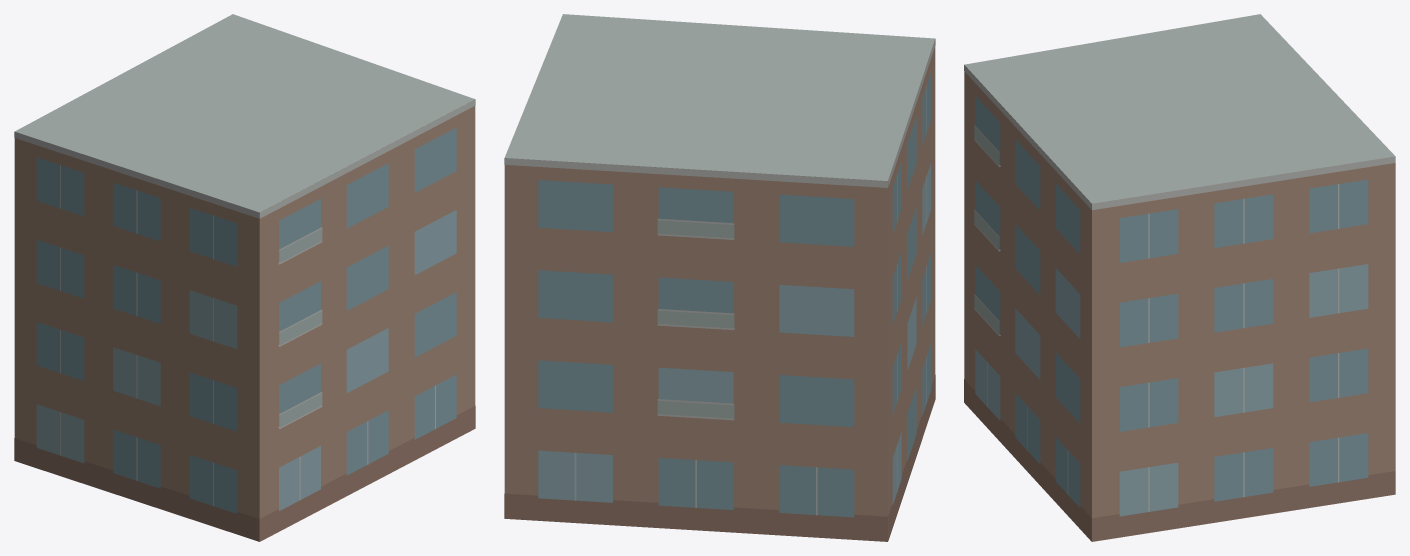
File: survey-upis-32851263.glb
3 views of the same model, side by side, from view 1: azimuth 30°, elevation 25°; view 2: azimuth 150°, elevation 25°; view 3: azimuth 270°, elevation 25° (orthographic). The views are drawn at different scales.
Parts seen in each view (by area): view 1: survey-upis-32851263.tmp; view 2: survey-upis-32851263.tmp; view 3: survey-upis-32851263.tmp.
Part boxes in pixels (x1,y1,x2,y2): survey-upis-32851263.tmp: (14, 14, 475, 541); survey-upis-32851263.tmp: (504, 14, 935, 541); survey-upis-32851263.tmp: (964, 14, 1395, 541).
Bounding box in the file's own units: 15.42 × 12.8 × 14.81.
